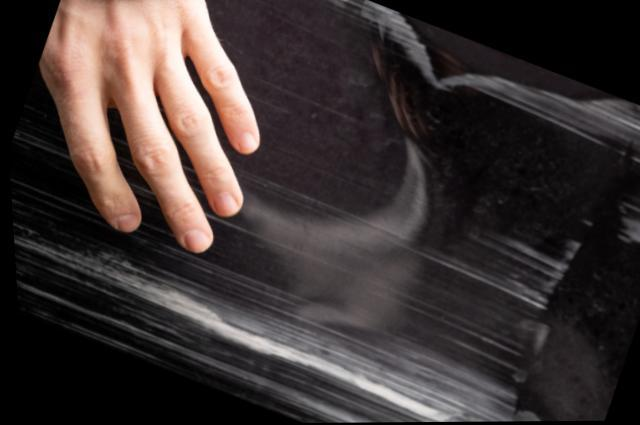scratch: (7, 0, 640, 423)
